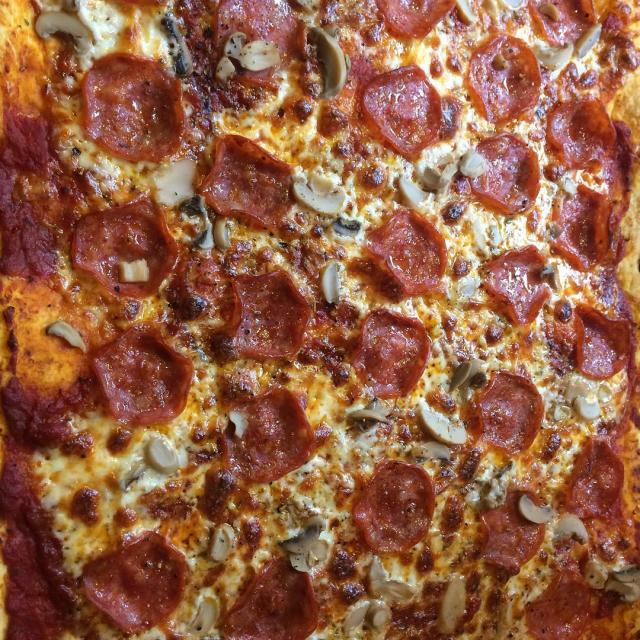mushrooms: (349, 559, 417, 635), (303, 18, 357, 95), (399, 154, 464, 216), (514, 490, 586, 544), (216, 22, 280, 82), (26, 5, 98, 56), (279, 514, 336, 578), (178, 189, 236, 248), (119, 434, 175, 494), (542, 22, 604, 76), (461, 459, 516, 519), (580, 551, 640, 605), (296, 167, 347, 221), (418, 399, 474, 447), (157, 12, 197, 79), (549, 377, 603, 424), (342, 394, 399, 436), (444, 358, 496, 402), (312, 255, 348, 308), (184, 585, 226, 629), (47, 315, 89, 357), (203, 518, 237, 566), (458, 142, 494, 181), (321, 211, 362, 244), (112, 256, 154, 288), (225, 410, 248, 444)
pepperoni: (78, 49, 186, 164), (70, 192, 175, 308), (90, 325, 196, 435), (79, 534, 194, 626), (197, 125, 298, 227), (224, 382, 321, 484), (220, 555, 330, 640), (364, 205, 448, 305), (226, 264, 309, 360), (359, 65, 442, 160), (466, 25, 549, 119), (357, 454, 435, 554), (220, 1, 312, 84), (353, 306, 429, 399), (480, 240, 550, 327), (476, 370, 546, 457), (548, 175, 610, 272), (559, 429, 626, 518), (468, 130, 538, 215), (572, 298, 638, 386), (478, 484, 541, 576), (548, 85, 615, 170), (369, 0, 461, 38)
